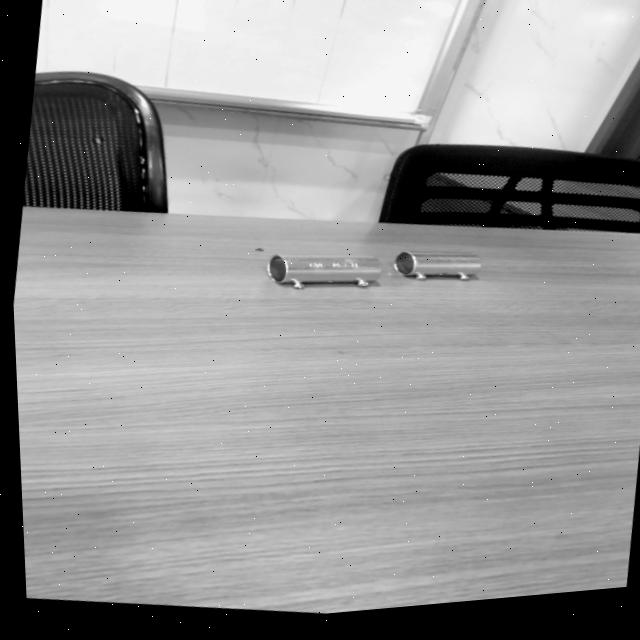Co_Lon: (267, 254, 380, 288)
Co_Nho: (393, 251, 480, 280)
